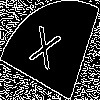X: (25, 25, 62, 80)
